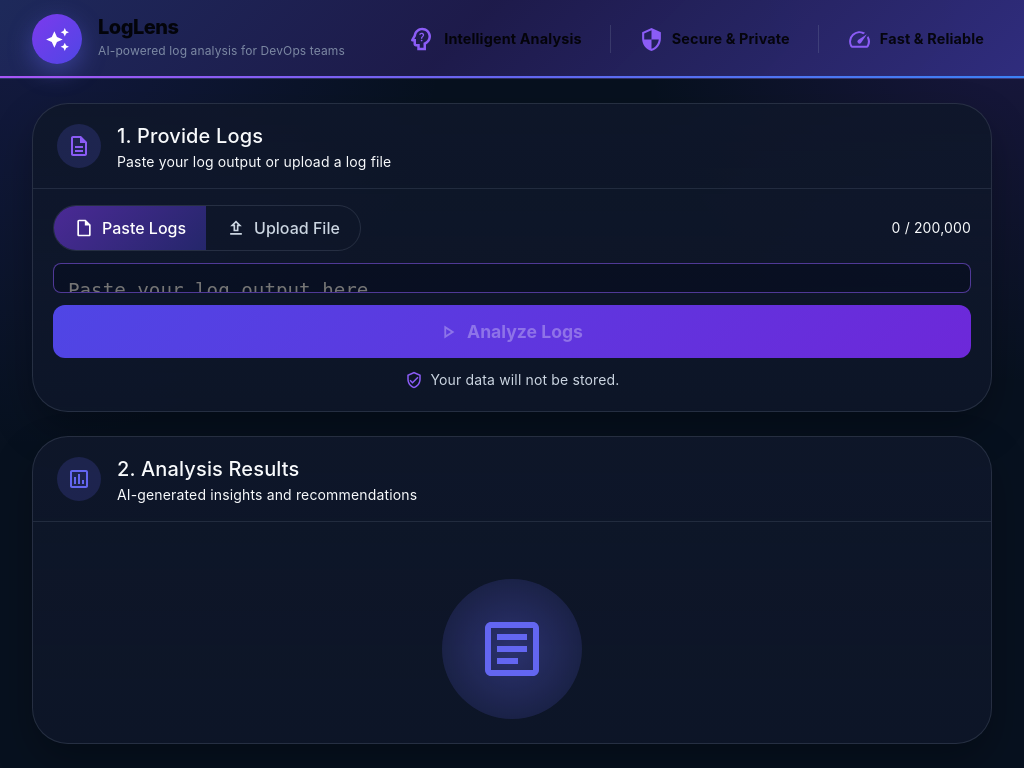
App › shows loading state and then results after analysis
The image size is (1024, 768).
Replace the text in the text box named "Log text input" with "ERROR db timeout" at coordinates (512, 278), box x1=53 y1=263 x2=971 y2=293
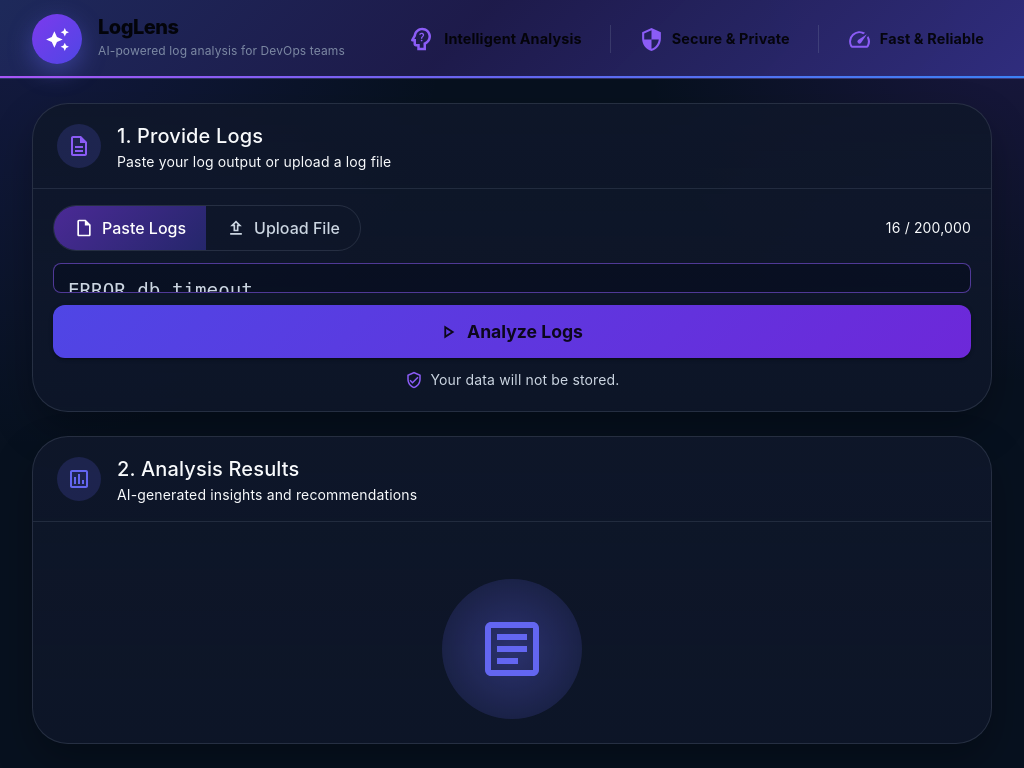
Click the button "Analyze Logs" at coordinates (512, 332), box x1=53 y1=305 x2=971 y2=358
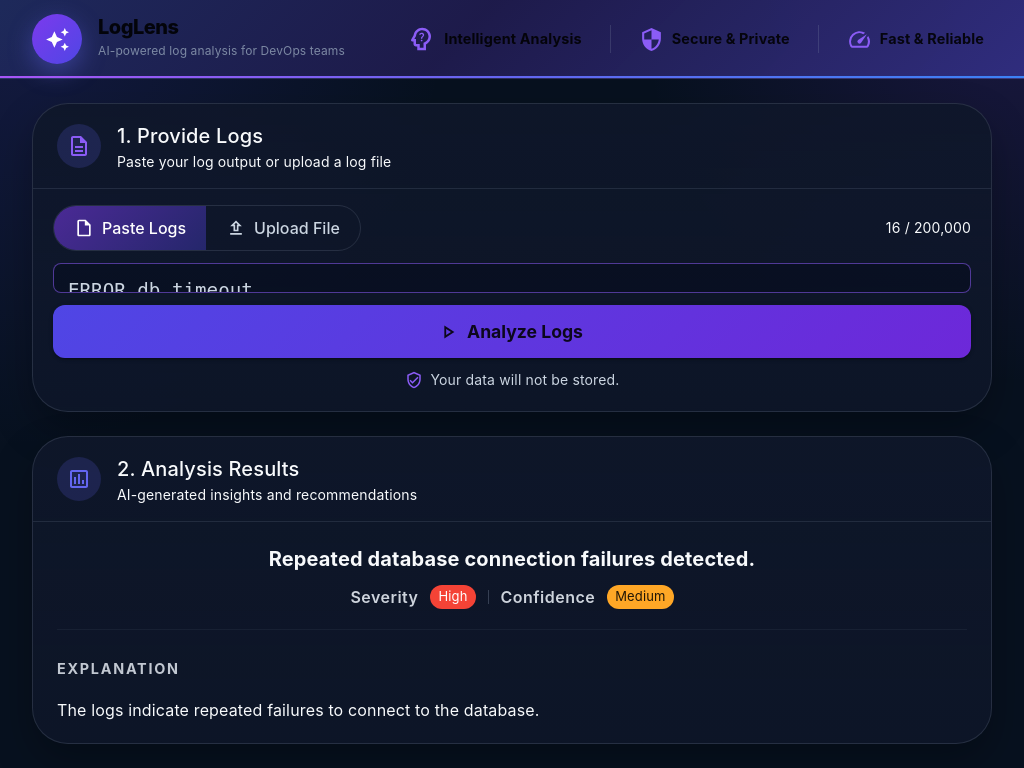
Expected: the heading "Repeated database connection failures detected." is shown, x1=269 y1=546 x2=755 y2=570
